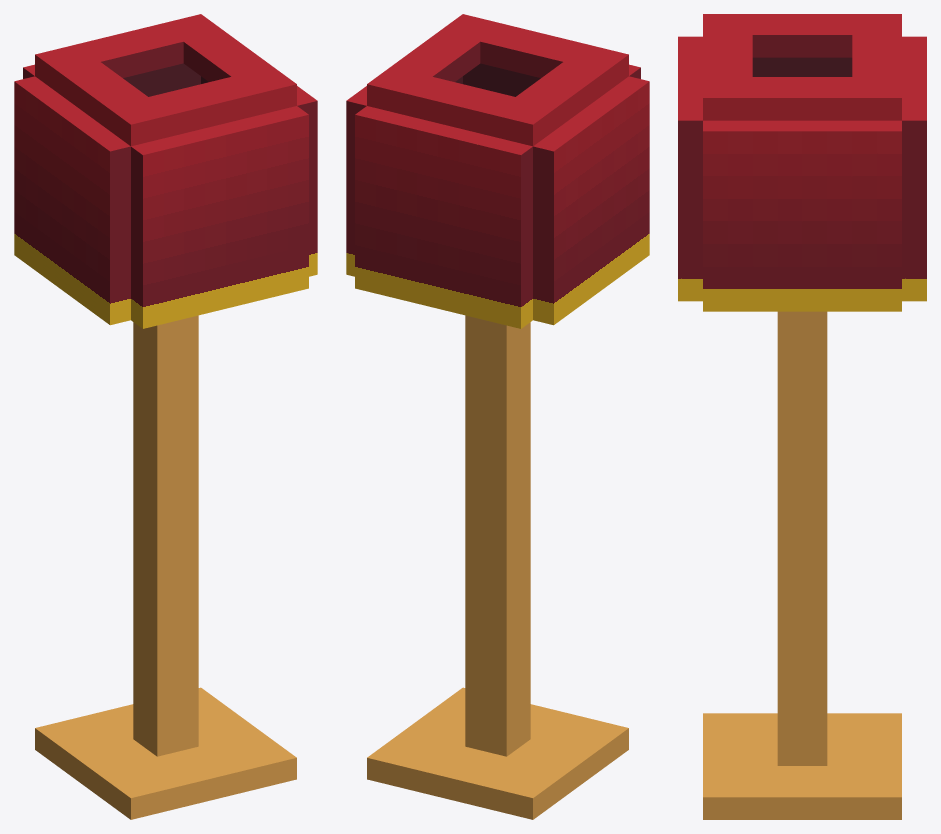
The model's file is Lamp.fbx.
3 views of the same model, side by side, from view 1: azimuth 30°, elevation 25°; view 2: azimuth 150°, elevation 25°; view 3: azimuth 270°, elevation 25° (orthographic). The views are drawn at different scales.
Parts seen in each view (by area): view 1: cube_5, cube_1, cube_2, cube, cube_7, cube_6, cube_8, cube_9, cube_3, cube_4; view 2: cube_4, cube_1, cube_2, cube, cube_7, cube_6, cube_9, cube_8, cube_3, cube_5; view 3: cube_3, cube_1, cube, cube_6, cube_4, cube_5, cube_7, cube_8, cube_9, cube_2.
Part boxes in pixels (bbox=[...]): cube_5: bbox=[131, 106, 308, 328]; cube_1: bbox=[133, 315, 198, 756]; cube_2: bbox=[14, 76, 130, 325]; cube: bbox=[35, 687, 296, 819]; cube_7: bbox=[35, 44, 172, 146]; cube_6: bbox=[160, 14, 296, 115]; cube_8: bbox=[149, 77, 255, 136]; cube_9: bbox=[77, 24, 183, 77]; cube_3: bbox=[201, 76, 317, 276]; cube_4: bbox=[23, 63, 200, 96]; cube_4: bbox=[355, 106, 532, 328]; cube_1: bbox=[465, 315, 530, 756]; cube_2: bbox=[533, 76, 649, 325]; cube: bbox=[367, 687, 628, 819]; cube_7: bbox=[491, 44, 628, 146]; cube_6: bbox=[367, 14, 503, 115]; cube_9: bbox=[408, 77, 514, 136]; cube_8: bbox=[480, 24, 586, 77]; cube_3: bbox=[346, 76, 462, 276]; cube_5: bbox=[463, 63, 640, 96]; cube_3: bbox=[703, 120, 901, 311]; cube_1: bbox=[777, 311, 827, 765]; cube: bbox=[703, 713, 901, 819]; cube_6: bbox=[703, 77, 901, 120]; cube_4: bbox=[902, 36, 926, 301]; cube_5: bbox=[678, 36, 702, 301]; cube_7: bbox=[703, 14, 901, 57]; cube_8: bbox=[703, 35, 752, 76]; cube_9: bbox=[852, 35, 901, 76]; cube_2: bbox=[752, 57, 852, 76].
Bounding box in the file's own units: 62.5 × 200 × 62.5.
1 material, 1 textured.
